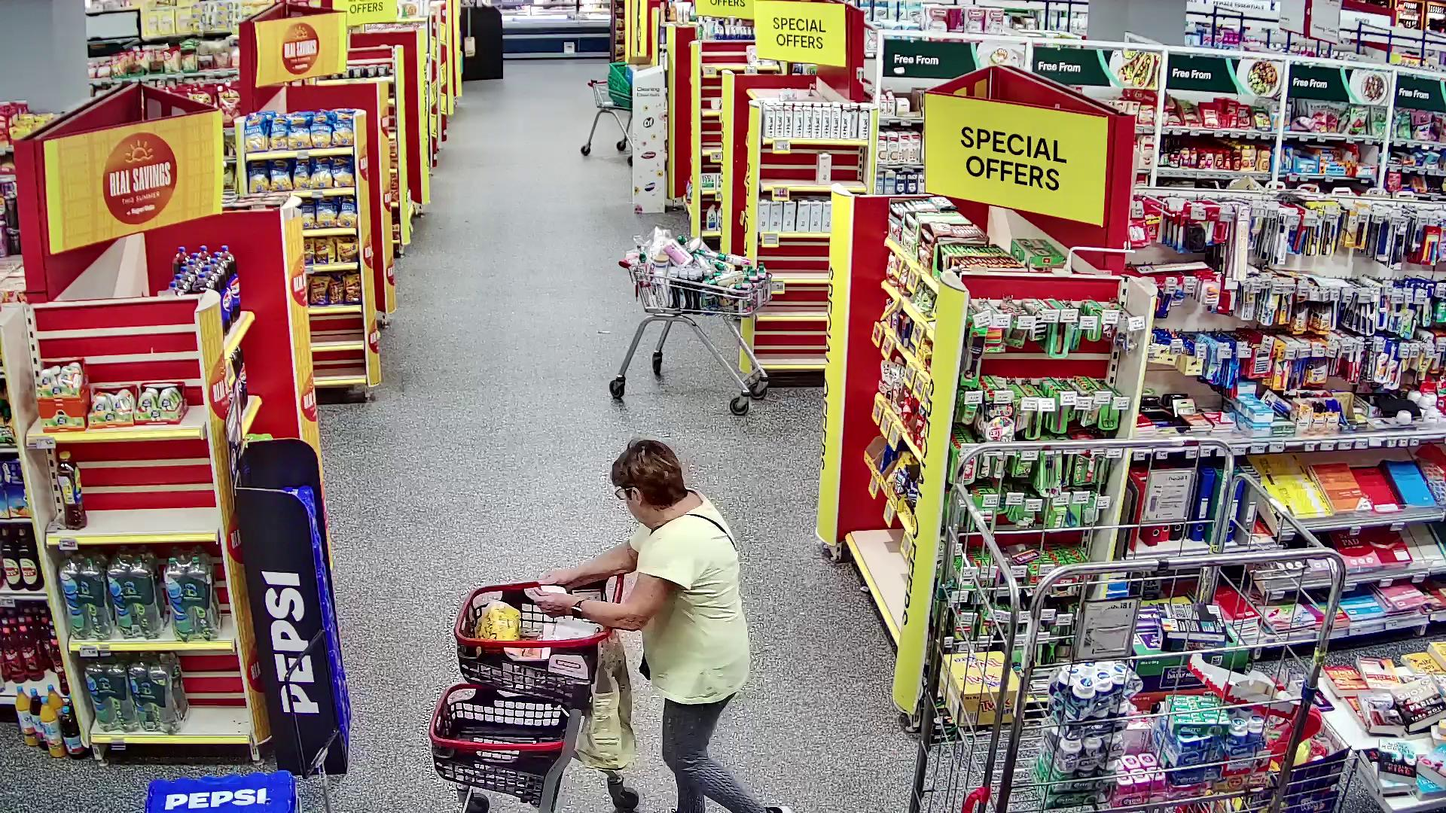filled-shopping-bags: (573, 634, 636, 770)
filled-trolly: (429, 567, 623, 813)
person: (537, 439, 793, 813)
person-with-basket-trolly-and-shopping-bag: (429, 438, 792, 813)
